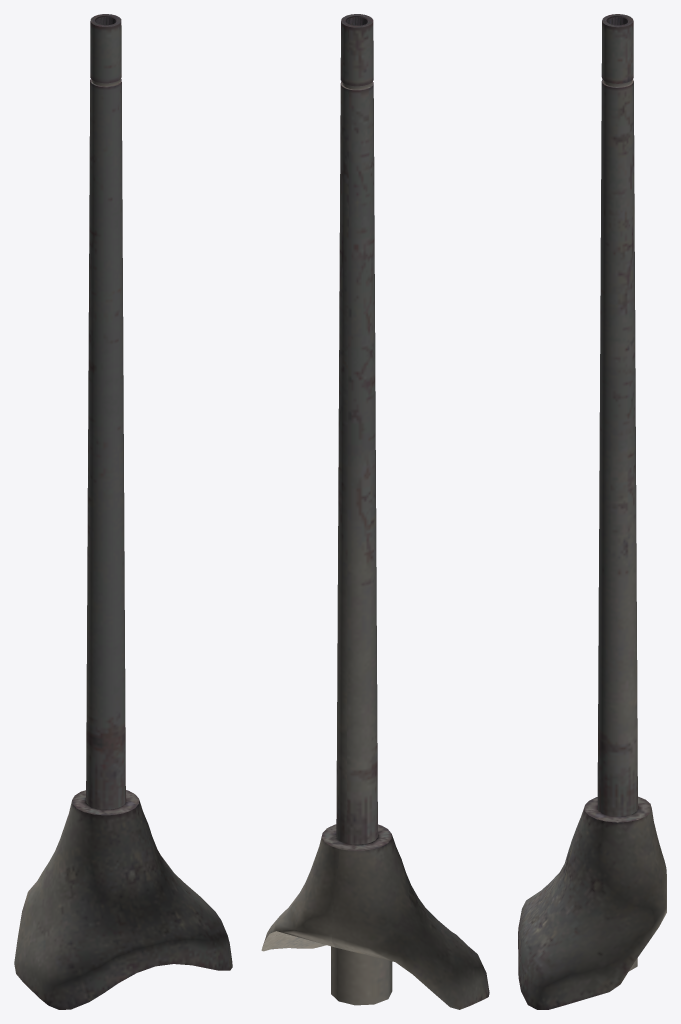
File: Gun_03.glb
3 renders of one model, left to right at view 1: azimuth 30°, elevation 25°; view 2: azimuth 150°, elevation 25°; view 3: azimuth 270°, elevation 25°, orthographic. The views are drawn at different scales.
Visible parts, largest first — view 1: set_0_group_0; view 2: set_0_group_0; view 3: set_0_group_0.
Part boxes in pixels (x1=…): set_0_group_0: x1=14, y1=14, x2=232, y2=1009; set_0_group_0: x1=261, y1=14, x2=489, y2=1009; set_0_group_0: x1=518, y1=14, x2=666, y2=1009.
Bounding box in the file's own units: 0.8002 × 3.77 × 0.5374.
1 material, 1 textured.
